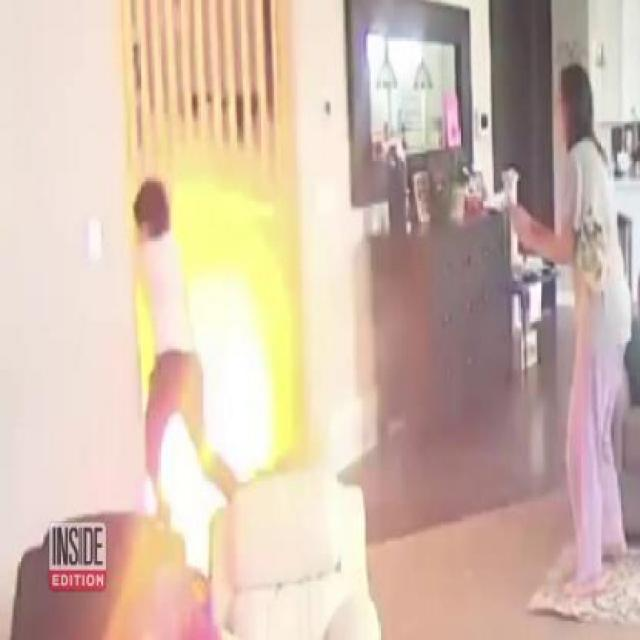fire: (136, 162, 336, 540)
